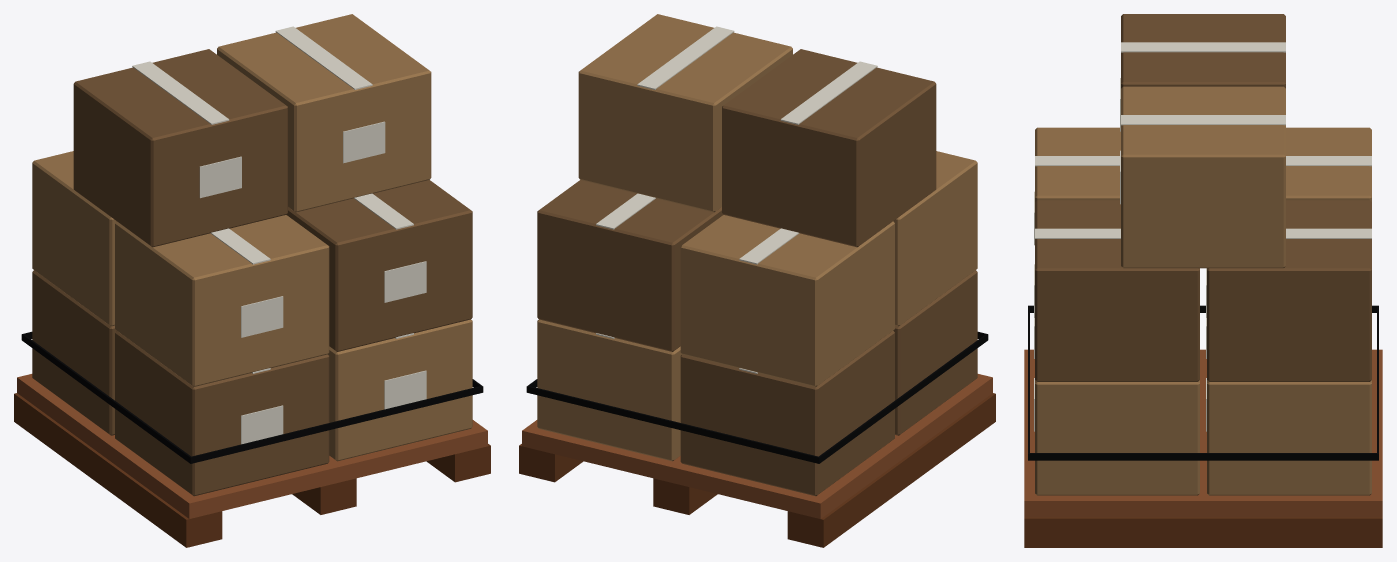
File: pallet_boxes.glb
3 views of the same model, side by side, from view 1: azimuth 30°, elevation 25°; view 2: azimuth 150°, elevation 25°; view 3: azimuth 270°, elevation 25° (orthographic). The views are drawn at different scales.
Parts seen in each view (by area): view 1: pallet_boxes; view 2: pallet_boxes; view 3: pallet_boxes.
Boxes of the visible parts, left/top/right/bottom form: pallet_boxes: left=14, top=14, right=490, bottom=547; pallet_boxes: left=519, top=14, right=995, bottom=547; pallet_boxes: left=1024, top=14, right=1382, bottom=547.
Size of the model in its own units: 1.02 by 1.19 by 1.
